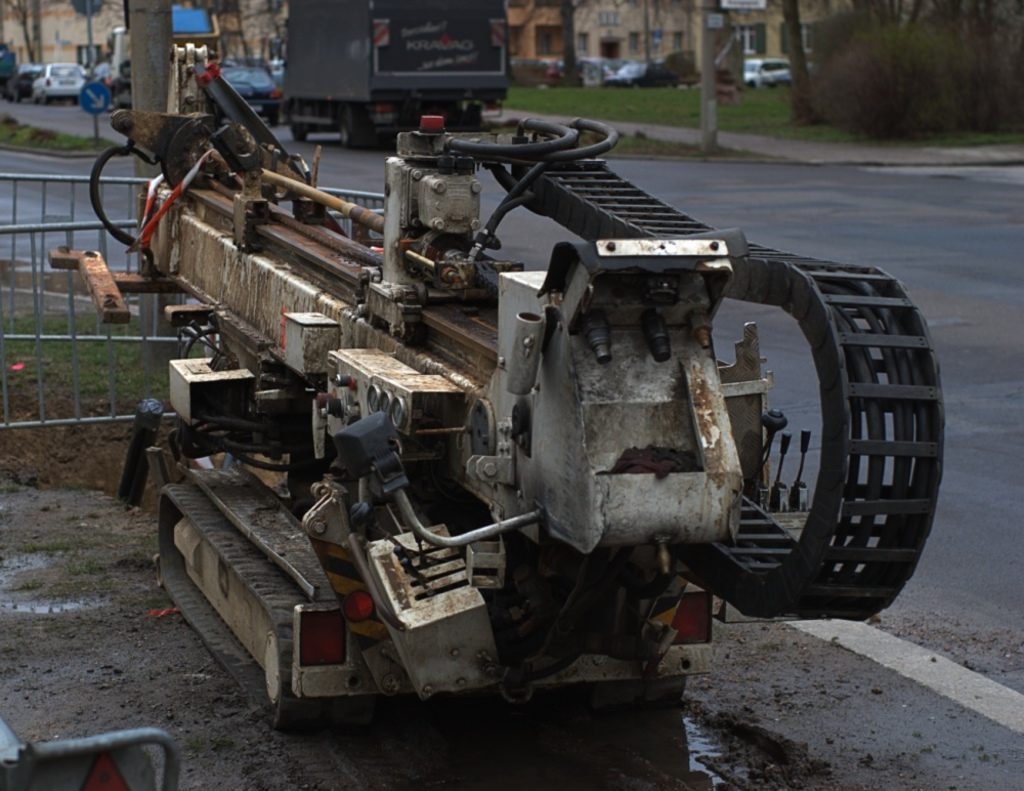car: (205, 49, 287, 123), (25, 45, 95, 116)
